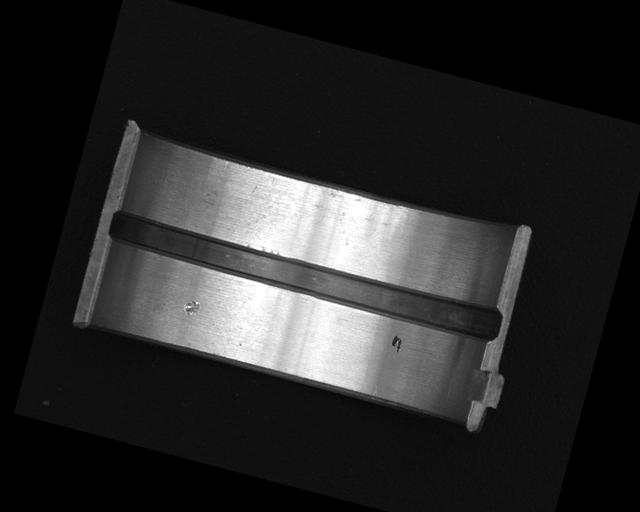blot: (389, 333, 404, 354)
bruise: (181, 297, 202, 319)
gap: (104, 207, 503, 347)
